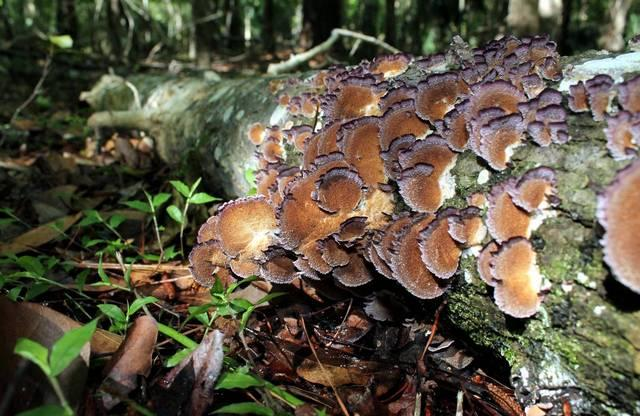Non-edible Mushroom: (185, 31, 638, 320)
